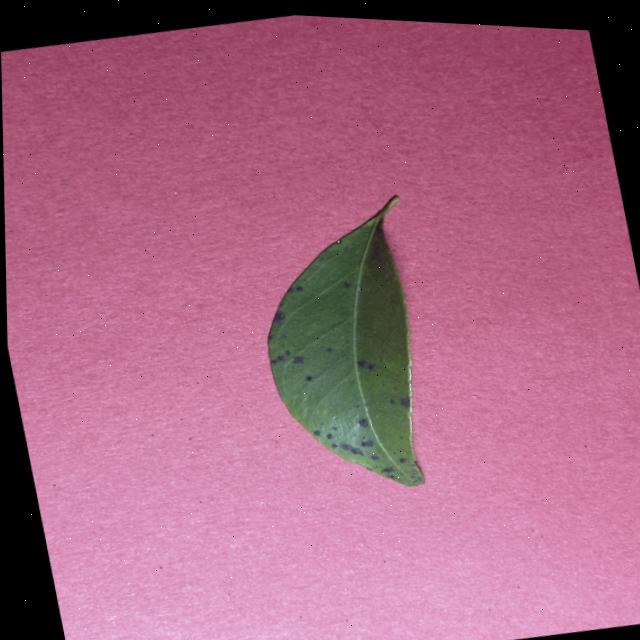sooty_mold: (268, 196, 424, 486)
